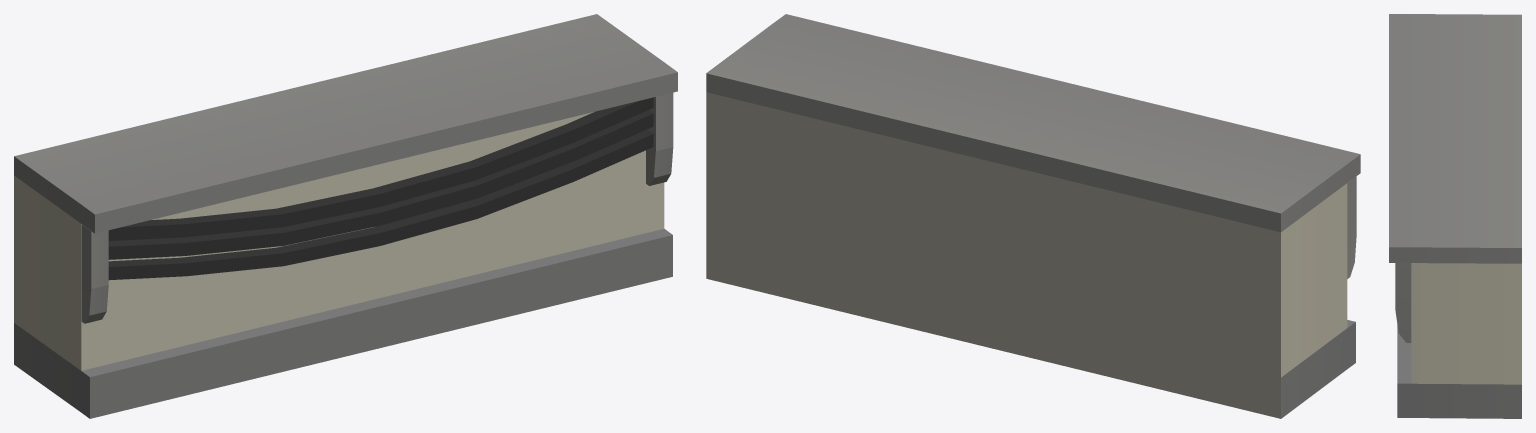
The model's file is B02_intersection_etage_3.fbx.
The picture shows the model from 3 angles, left to right: view 1: azimuth 30°, elevation 25°; view 2: azimuth 150°, elevation 25°; view 3: azimuth 270°, elevation 25°; orthographic projection. The views are drawn at different scales.
Visible parts, largest first — view 1: B02_intersection_etage_3; view 2: B02_intersection_etage_3; view 3: B02_intersection_etage_3.
Part boxes in pixels (x1,y1,x2,y2): B02_intersection_etage_3: (14, 14, 677, 418); B02_intersection_etage_3: (706, 14, 1360, 418); B02_intersection_etage_3: (1389, 14, 1521, 418).
Size of the model in its own units: 375 by 129 by 90.12.
